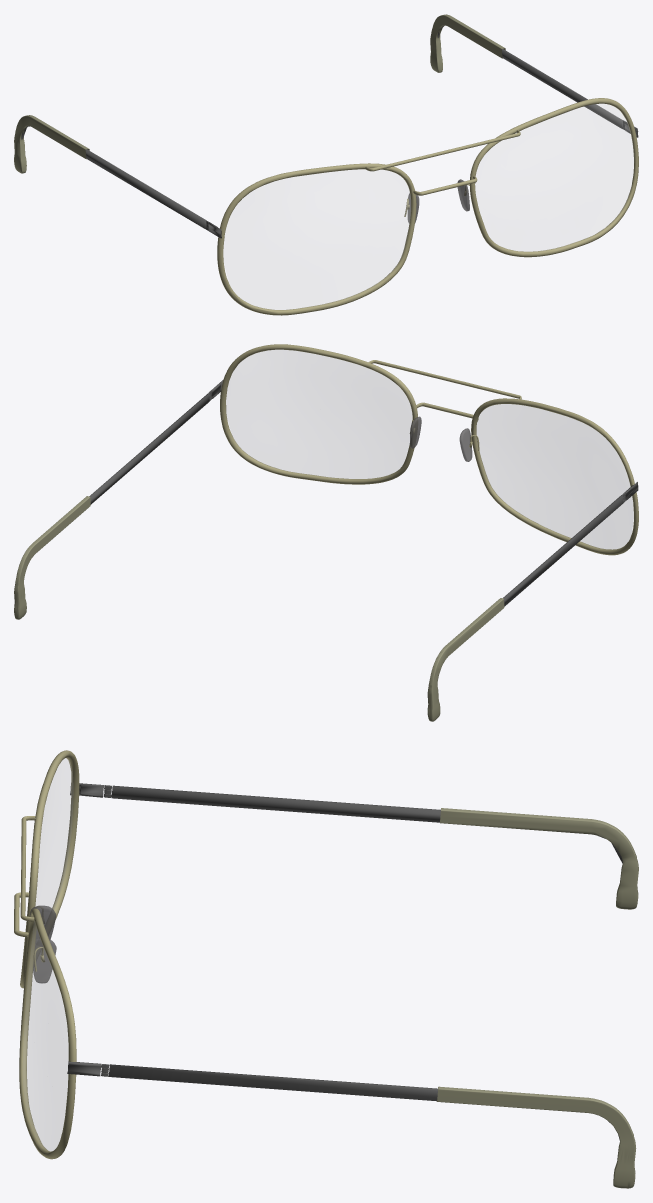
The model's file is navegador-metal.glb.
3 views of the same model, one above another, from view 1: azimuth 30°, elevation 25°; view 2: azimuth 150°, elevation 25°; view 3: azimuth 270°, elevation 25° (orthographic). The views are drawn at different scales.
Visible parts, largest first — view 1: lente, BezierCurve_frame_0, Cube.002_leatherhandle_0, Cube.001_handle_0, Cylinder_frame_0; view 2: lente, BezierCurve_frame_0, Cube.002_leatherhandle_0, Cube.001_handle_0, Cylinder_frame_0, Cylinder.002_nose_protector_0; view 3: lente, Cube.001_handle_0, Cube.002_leatherhandle_0, BezierCurve_frame_0, Cylinder.002_nose_protector_0, Cylinder_frame_0.
Part boxes in pixels (x1,y1,x2,y2): lente: (223, 104, 633, 309); BezierCurve_frame_0: (217, 98, 638, 315); Cube.002_leatherhandle_0: (14, 14, 505, 173); Cube.001_handle_0: (21, 25, 638, 238); Cylinder_frame_0: (365, 130, 520, 171); lente: (226, 350, 633, 549); BezierCurve_frame_0: (220, 344, 638, 555); Cube.002_leatherhandle_0: (14, 496, 504, 721); Cube.001_handle_0: (89, 380, 638, 606); Cylinder_frame_0: (368, 360, 521, 399); Cylinder.002_nose_protector_0: (409, 416, 472, 461); lente: (23, 758, 73, 1151); Cube.001_handle_0: (67, 783, 622, 1140); Cube.002_leatherhandle_0: (437, 808, 638, 1188); BezierCurve_frame_0: (19, 750, 79, 1159); Cylinder.002_nose_protector_0: (30, 905, 56, 983); Cylinder_frame_0: (20, 816, 35, 921).
Bounding box in the file's own units: 331 × 103 × 309.
